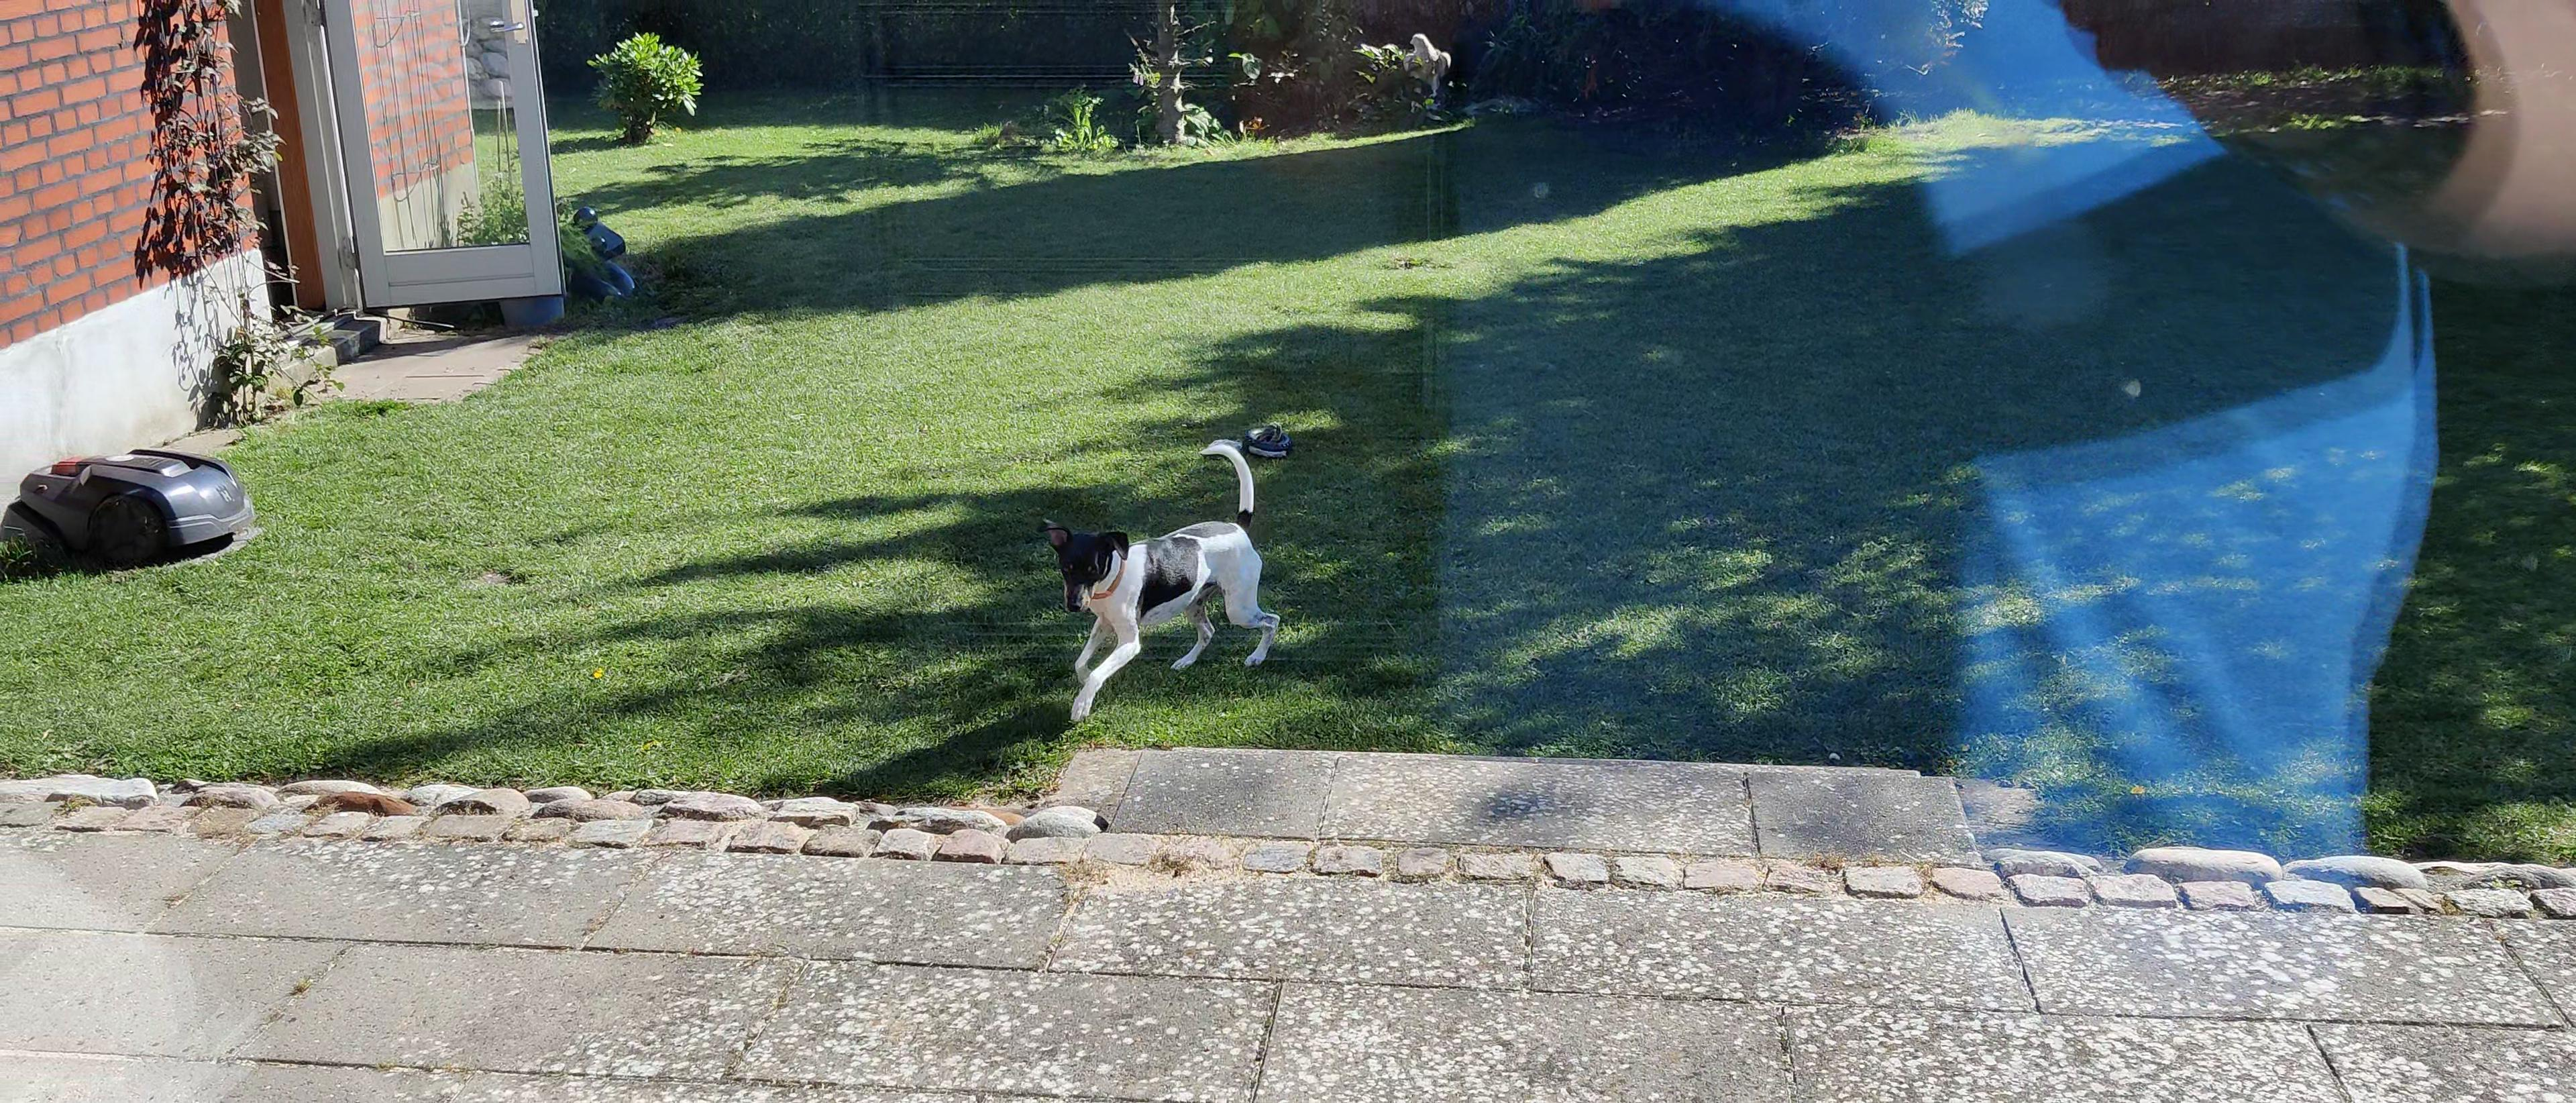Dog: (1025, 437, 1286, 735)
